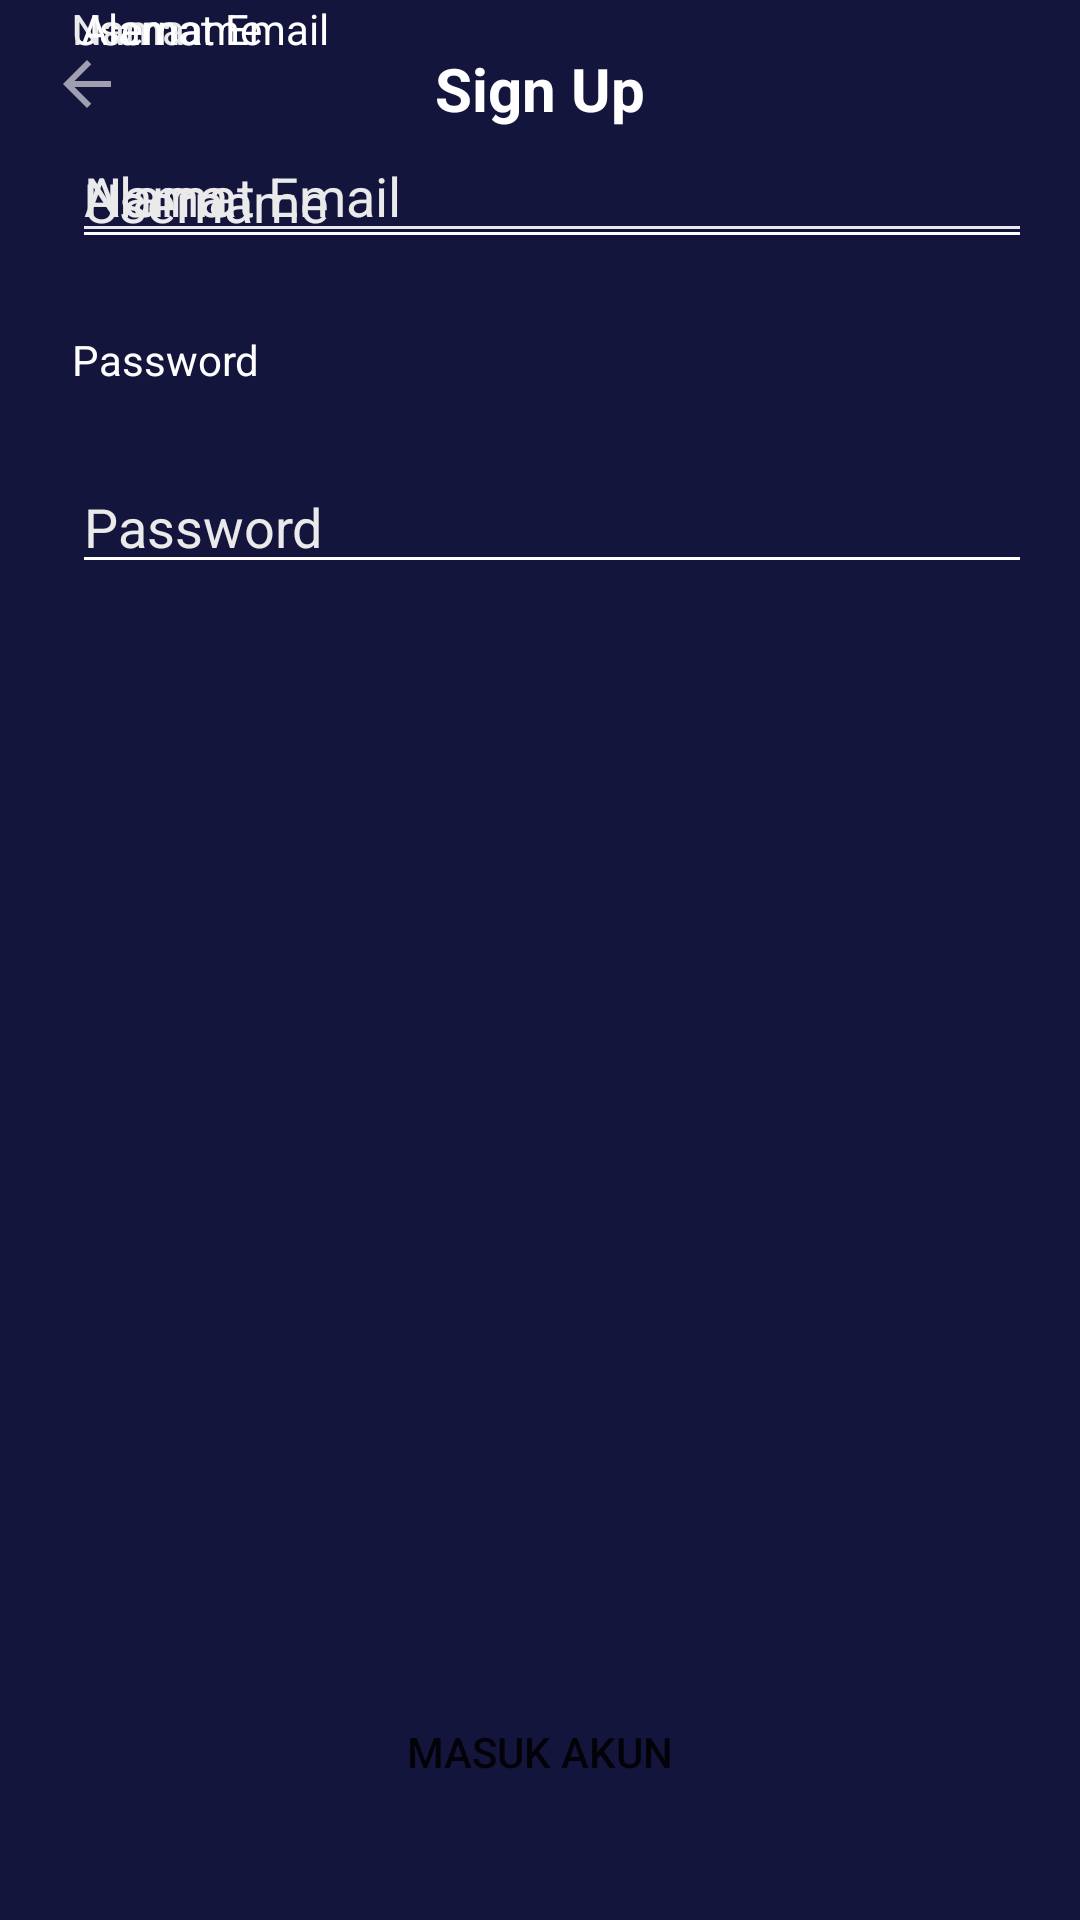

Icons on this 1080*1920 Android screen, each with its box as (x1=x1, y1=y1, x2=x2, y2=y2):
arrow back: (x1=63, y1=60, x2=111, y2=108)
